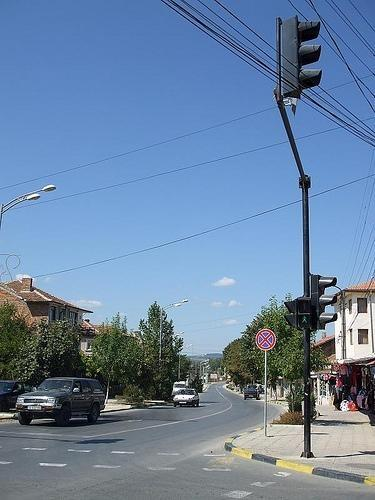car: (0, 379, 29, 412), (172, 389, 201, 403), (244, 388, 258, 400)
truck: (13, 378, 106, 426), (171, 381, 186, 400)
